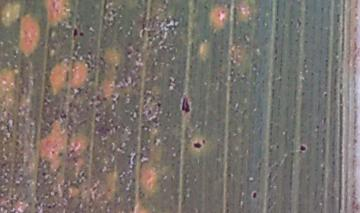tarspot: (179, 93, 193, 117), (295, 142, 309, 154), (70, 26, 80, 41), (189, 141, 205, 150), (39, 169, 50, 180), (249, 188, 258, 201), (154, 99, 163, 109), (80, 28, 87, 38)
